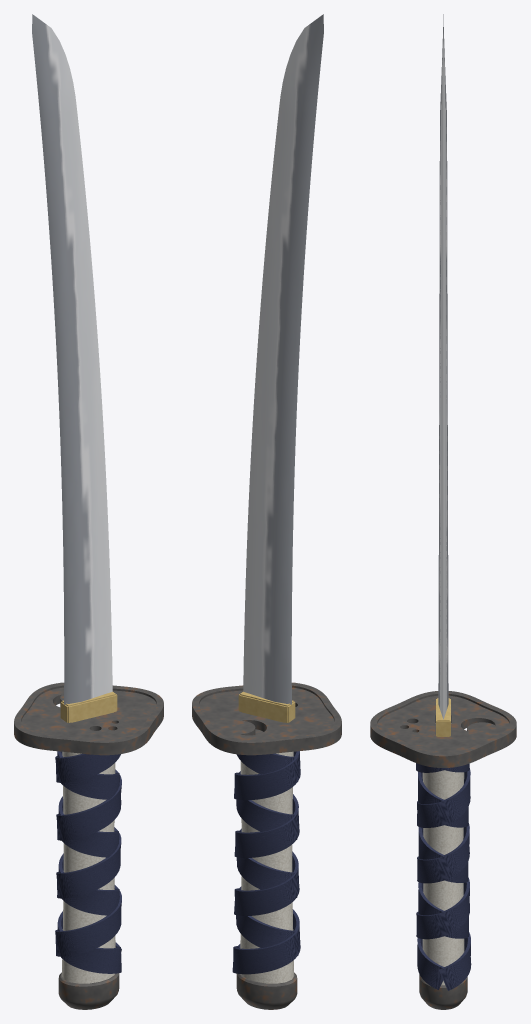
The model's file is katana_comum.glb.
The picture shows the model from 3 angles, left to right: view 1: azimuth 30°, elevation 25°; view 2: azimuth 150°, elevation 25°; view 3: azimuth 270°, elevation 25°; orthographic projection. The views are drawn at different scales.
Visible parts, largest first — view 1: katana_lamina, katana_ito, katana_tsuba, katana_same, katana_kashira, katana_habaki; view 2: katana_lamina, katana_ito, katana_tsuba, katana_same, katana_kashira, katana_habaki; view 3: katana_ito, katana_tsuba, katana_lamina, katana_same, katana_kashira, katana_habaki.
Boxes of the visible parts, box(x1,y1,x2,y2) form: katana_lamina: box(32, 14, 112, 704); katana_ito: box(55, 751, 121, 973); katana_tsuba: box(14, 682, 163, 755); katana_same: box(61, 751, 115, 983); katana_kashira: box(58, 972, 119, 1009); katana_habaki: box(60, 691, 117, 722); katana_lamina: box(243, 14, 323, 704); katana_ito: box(232, 751, 300, 974); katana_tsuba: box(192, 682, 341, 755); katana_same: box(240, 751, 294, 983); katana_kashira: box(236, 972, 297, 1009); katana_habaki: box(238, 691, 295, 722); katana_ito: box(416, 763, 471, 990); katana_tsuba: box(370, 691, 516, 767); katana_lamina: box(438, 14, 448, 719); katana_same: box(422, 770, 464, 985); katana_kashira: box(419, 974, 467, 1009); katana_habaki: box(436, 698, 450, 736).
Bounding box in the file's own units: 0.7601 × 5.19 × 0.7175.
7 materials, 7 textured.
